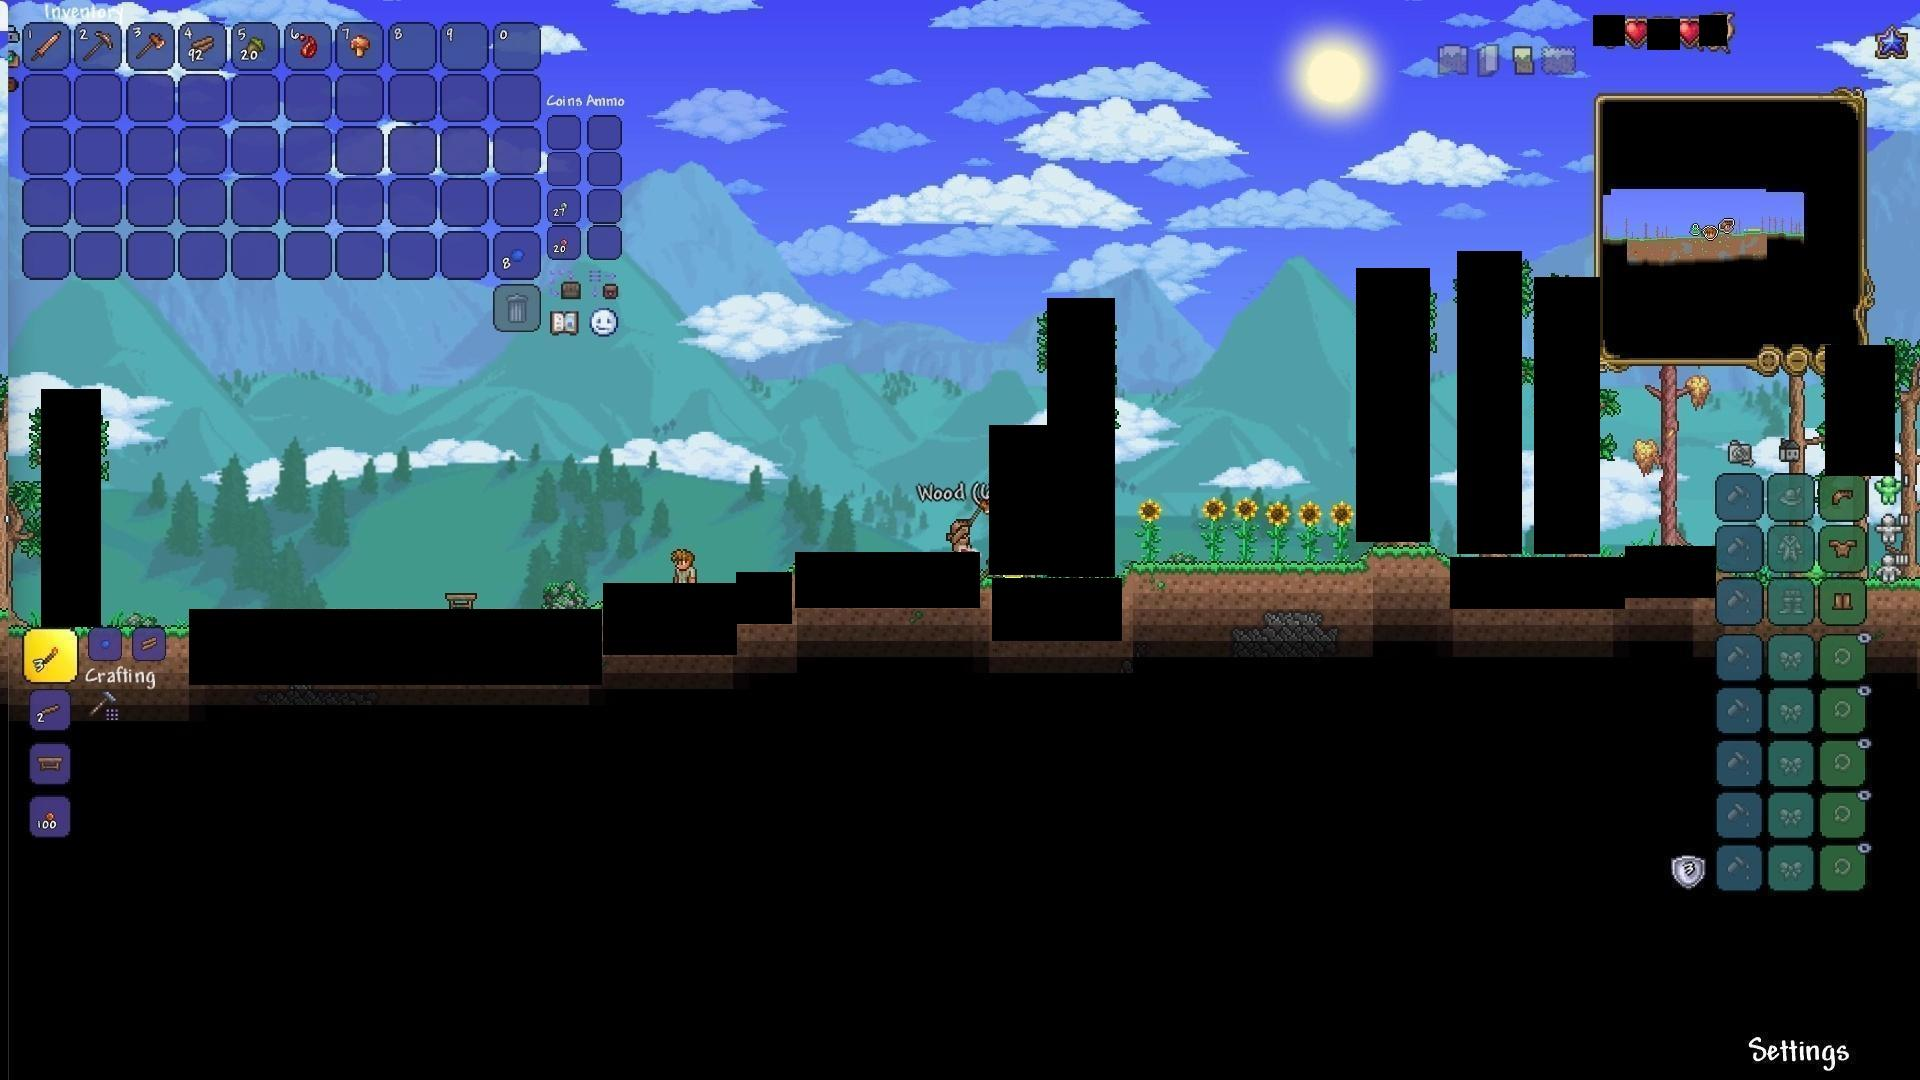breastplate: (1830, 537, 1859, 558)
dirt: (1124, 547, 1448, 611)
heart: (1675, 17, 1702, 47), (1621, 17, 1648, 47)
helmet: (1829, 484, 1858, 509)
legs: (1832, 588, 1857, 616)
tree: (1643, 367, 1704, 543), (1894, 349, 1920, 574)
wood: (189, 32, 218, 59), (133, 629, 162, 655)
workbench: (32, 750, 69, 775), (440, 589, 477, 615)
